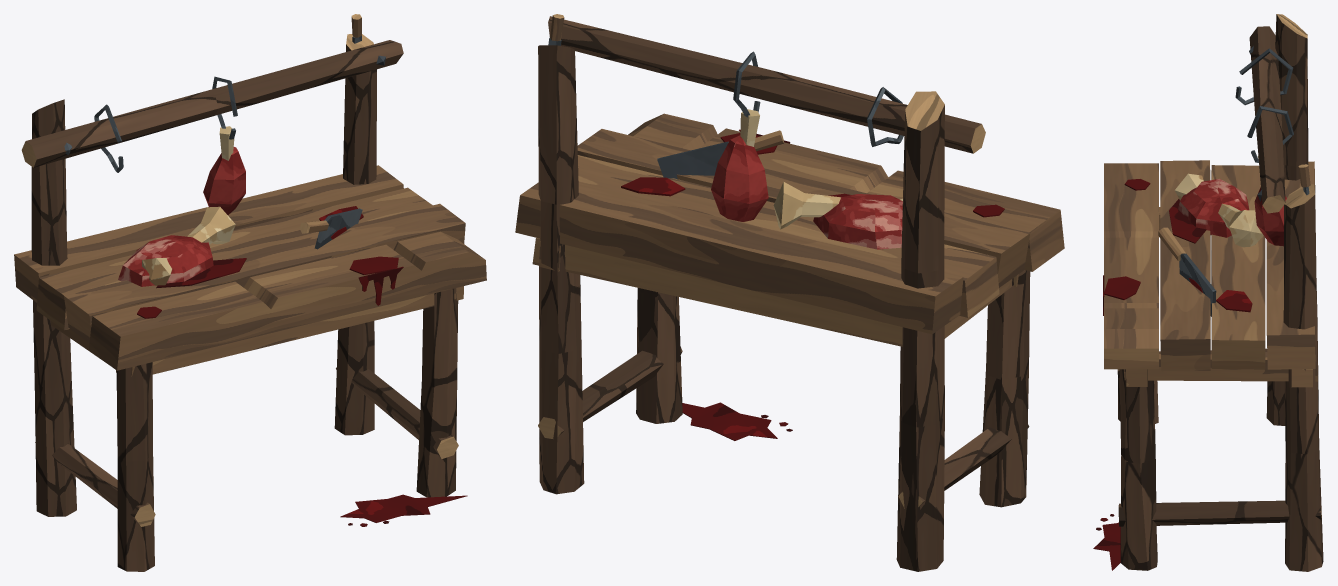
Rendered from SM_ButcherTable.fbx.
The picture shows the model from 3 angles, left to right: view 1: azimuth 30°, elevation 25°; view 2: azimuth 150°, elevation 25°; view 3: azimuth 270°, elevation 25°; orthographic projection. The views are drawn at different scales.
Visible parts, largest first — view 1: SM_ButcherTable; view 2: SM_ButcherTable; view 3: SM_ButcherTable.
Part boxes in pixels (bbox=[...]): SM_ButcherTable: bbox=[14, 14, 486, 571]; SM_ButcherTable: bbox=[515, 14, 1064, 571]; SM_ButcherTable: bbox=[1093, 14, 1323, 571].
Bounding box in the file's own units: 1.46 × 1.49 × 0.7778.
